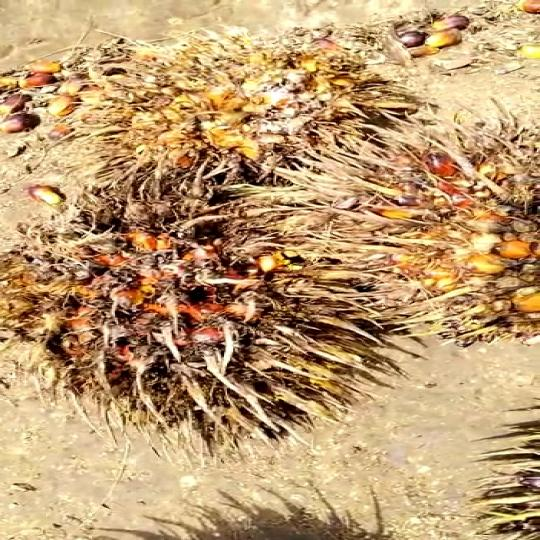terlalu masak: (0, 210, 354, 413), (29, 57, 382, 218)
